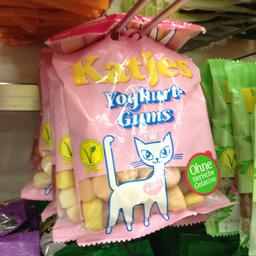candy: (52, 31, 236, 246)
